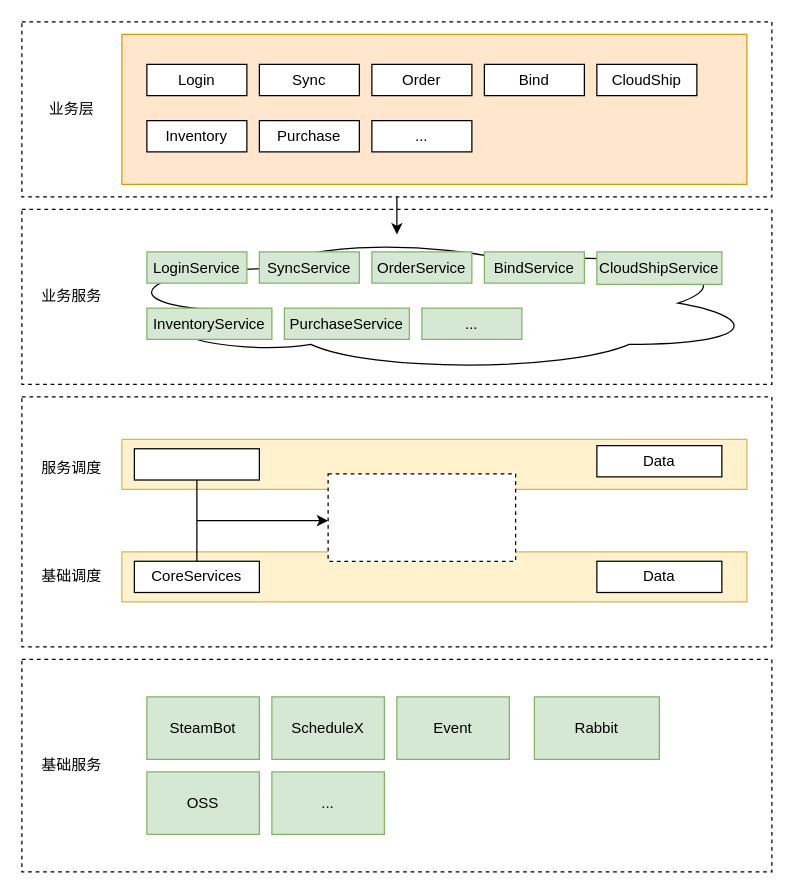
The diagram is 794 pixels wide and 894 high, and some of its shapes have lost their labels. The box of each missing label's shape, as (x1, y1, x2, y2) in pixels:
Service Manager: (327, 472, 516, 561)
Services: (133, 448, 259, 480)
